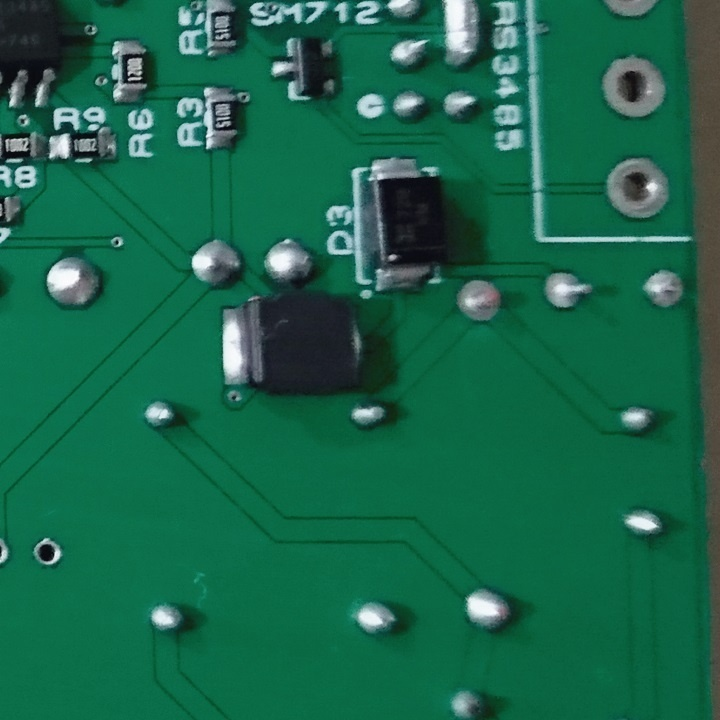F: (605, 158, 672, 229), (600, 52, 668, 120), (452, 274, 509, 329), (539, 266, 597, 315), (641, 269, 686, 315), (29, 536, 68, 571)
P: (436, 1, 482, 78)
